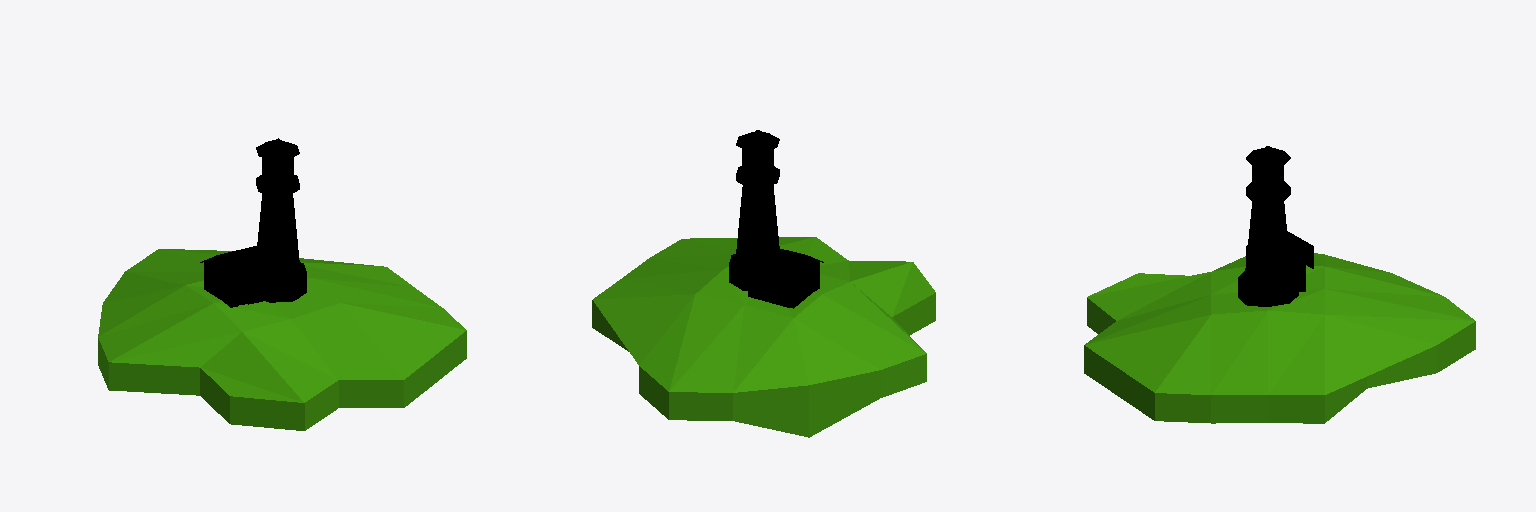
File: lighthouse.obj
The picture shows the model from 3 angles: view 1: azimuth 30°, elevation 25°; view 2: azimuth 150°, elevation 25°; view 3: azimuth 270°, elevation 25°; orthographic projection.
Visible parts, largest first — view 1: Plane001, Cylinder001, casa; view 2: Plane001, Cylinder001, casa; view 3: Plane001, Cylinder001, casa.
Part boxes in pixels (x1,y1,x2,y2): Plane001: (98, 249, 466, 430); Cylinder001: (256, 138, 306, 302); casa: (200, 245, 279, 307); Plane001: (592, 237, 935, 437); Cylinder001: (729, 130, 779, 290); casa: (744, 245, 823, 308); Plane001: (1084, 253, 1475, 423); Cylinder001: (1238, 146, 1298, 306); casa: (1246, 231, 1313, 291).
Bounding box in the file's own units: 184 × 134 × 204.